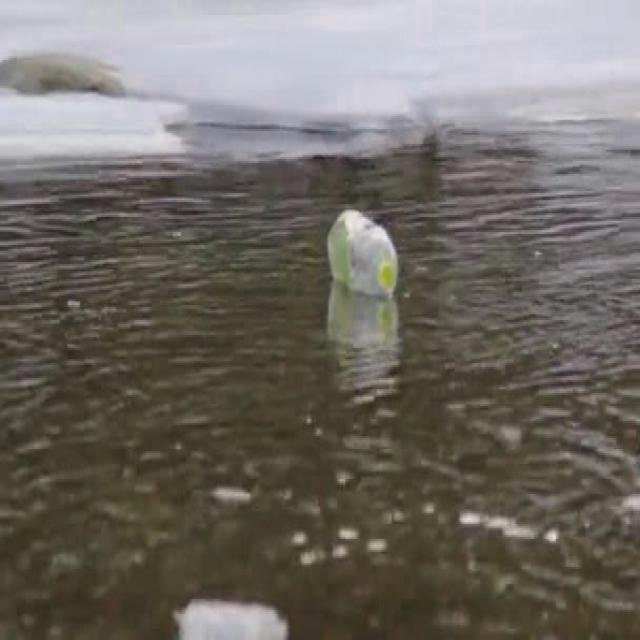Plastic: (322, 205, 403, 299), (166, 595, 292, 640)
